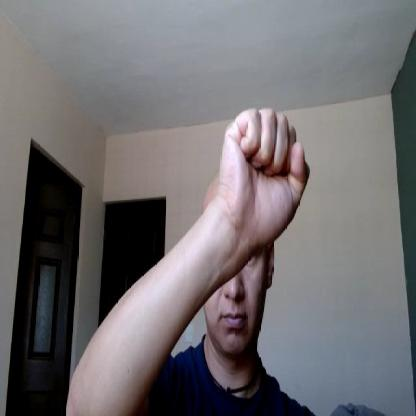S: (218, 107, 312, 244)
